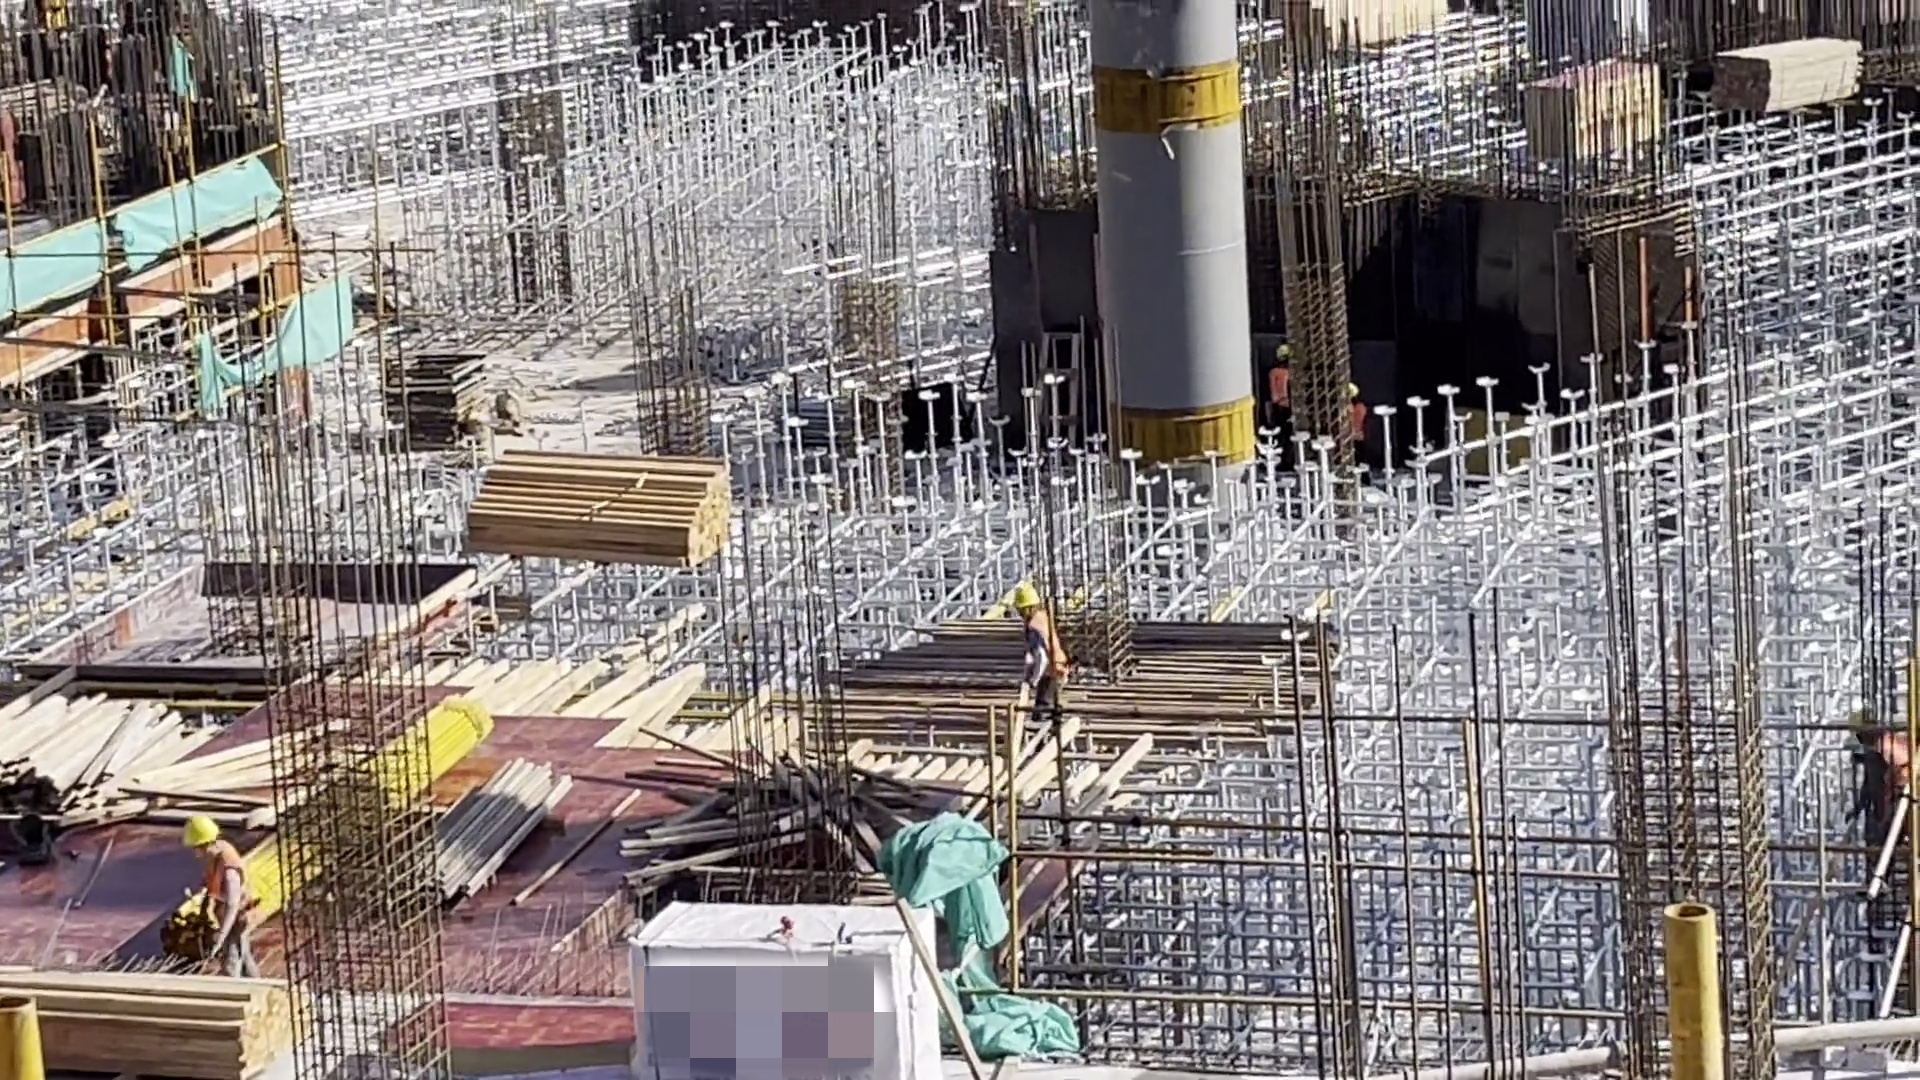board: (377, 340, 498, 451)
helmet: (181, 809, 225, 855), (1007, 578, 1046, 628), (1274, 344, 1293, 361), (1344, 383, 1361, 400)
person: (181, 805, 276, 1001), (1004, 576, 1094, 734), (1334, 375, 1384, 506), (1262, 337, 1305, 459)
vest: (199, 846, 249, 929), (1027, 615, 1072, 687), (1266, 365, 1296, 413), (1344, 399, 1367, 447)
wood: (1, 960, 294, 1072), (465, 448, 731, 567), (1, 689, 209, 826), (1705, 35, 1872, 128)
